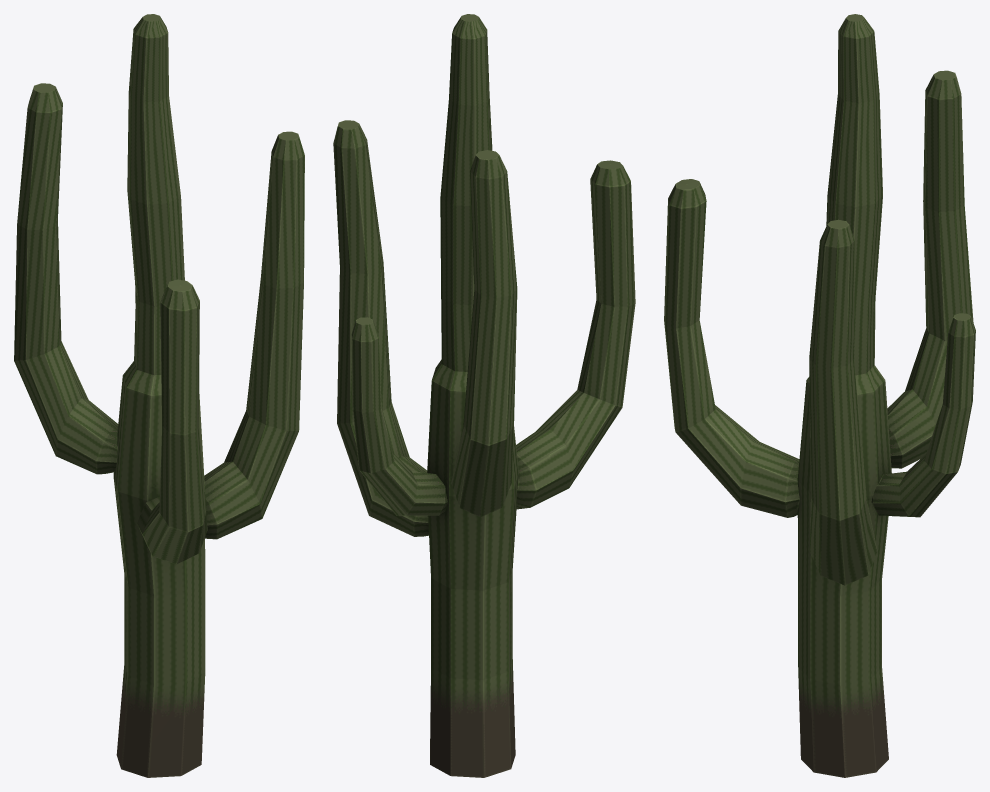
The model's file is Tree-Saguaro-GB.fbx.
The picture shows the model from 3 angles, left to right: view 1: azimuth 30°, elevation 25°; view 2: azimuth 150°, elevation 25°; view 3: azimuth 270°, elevation 25°; orthographic projection.
Visible parts, largest first — view 1: Saguaro_mesh; view 2: Saguaro_mesh; view 3: Saguaro_mesh.
Part boxes in pixels (bbox=[...]): Saguaro_mesh: bbox=[14, 14, 304, 777]; Saguaro_mesh: bbox=[333, 14, 635, 777]; Saguaro_mesh: bbox=[664, 14, 975, 777].
Bounding box in the file's own units: 247 × 758 × 289.
Materials: 1 (1 with a texture image).
